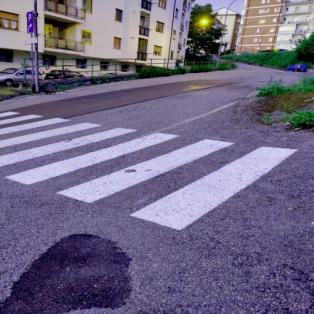Paso de Cebra: (52, 114, 302, 250)
